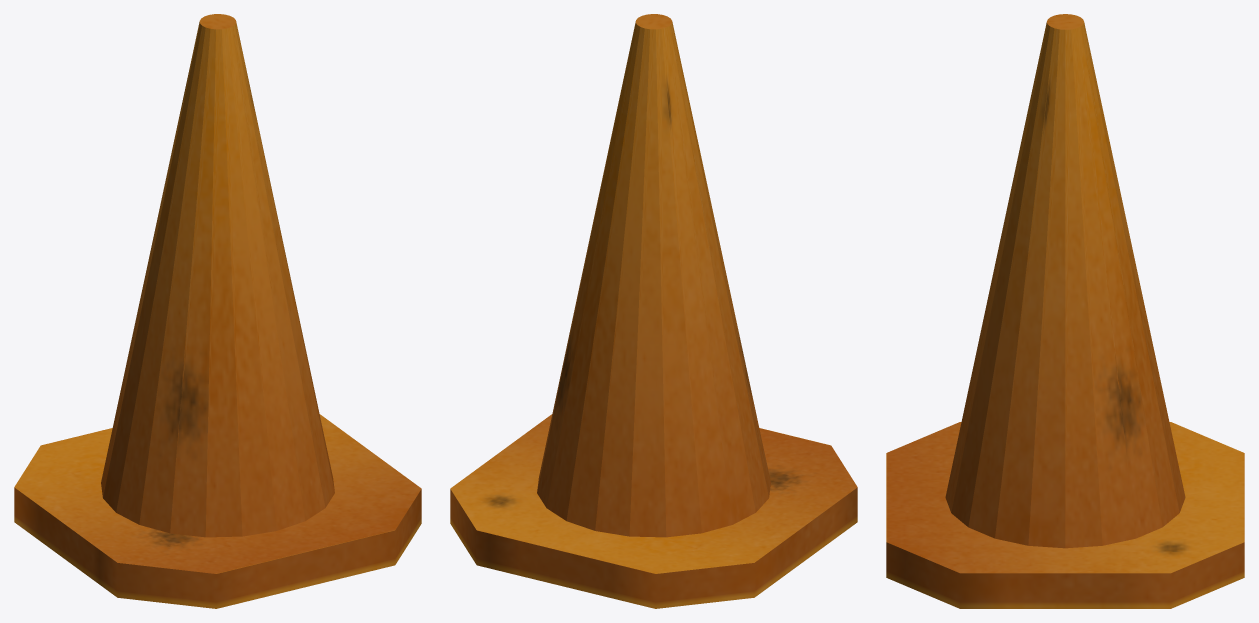
Rendered from ConeSmall.fbx.
The picture shows the model from 3 angles, left to right: view 1: azimuth 30°, elevation 25°; view 2: azimuth 150°, elevation 25°; view 3: azimuth 270°, elevation 25°; orthographic projection. The views are drawn at different scales.
Parts seen in each view (by area): view 1: smallcone; view 2: smallcone; view 3: smallcone.
Boxes of the visible parts, x1,y1,x2,y2 form: smallcone: (14, 14, 421, 608); smallcone: (450, 14, 857, 608); smallcone: (886, 14, 1244, 608).
Bounding box in the file's own units: 4.76 × 7.48 × 4.76.
